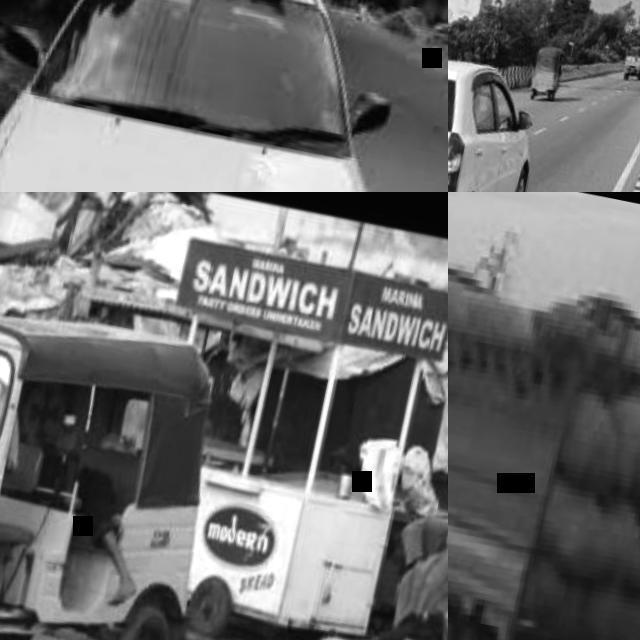car: (197, 300, 450, 637), (438, 60, 530, 189)
